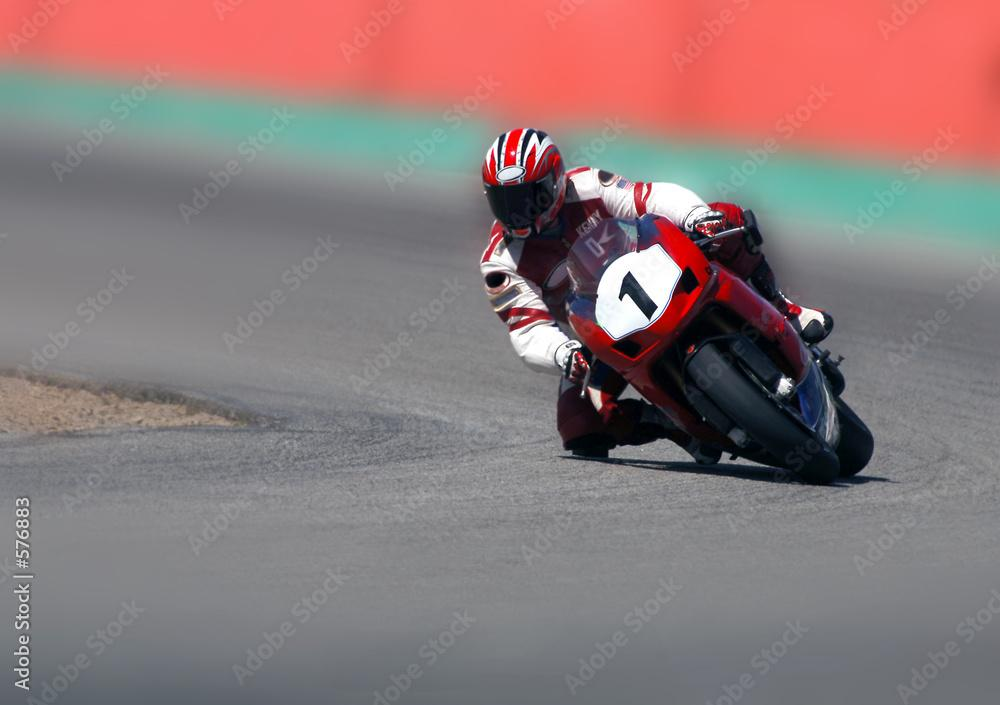helmet: (481, 127, 569, 241)
